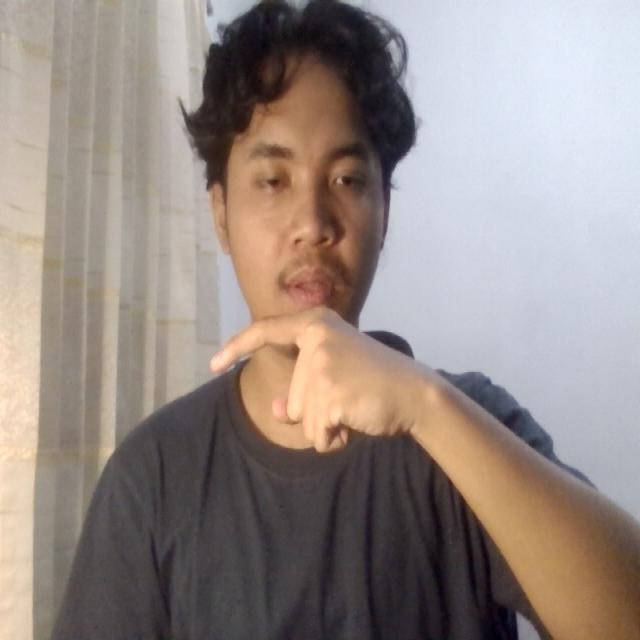N: (190, 280, 401, 485)
